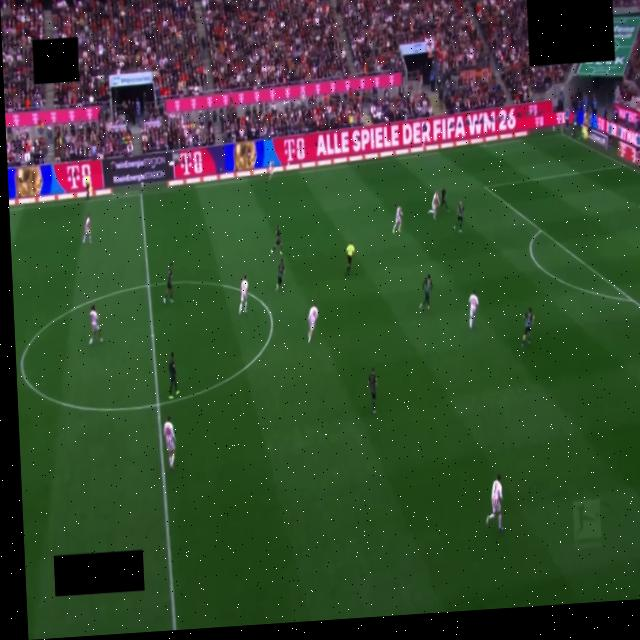player: (486, 474, 503, 531), (88, 304, 104, 345), (163, 415, 175, 469), (367, 367, 378, 414), (522, 308, 534, 347), (169, 353, 179, 399), (420, 275, 432, 309), (308, 304, 318, 342), (164, 262, 173, 303), (469, 290, 478, 329), (239, 275, 248, 314), (453, 201, 464, 232), (271, 225, 282, 254), (392, 206, 403, 233), (429, 192, 439, 219), (276, 259, 284, 290), (83, 214, 91, 243), (441, 188, 448, 210), (268, 160, 274, 181)
referee: (345, 241, 354, 275)
